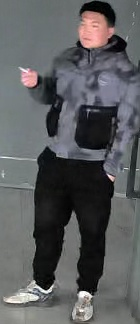smoking: (1, 5, 136, 99)
